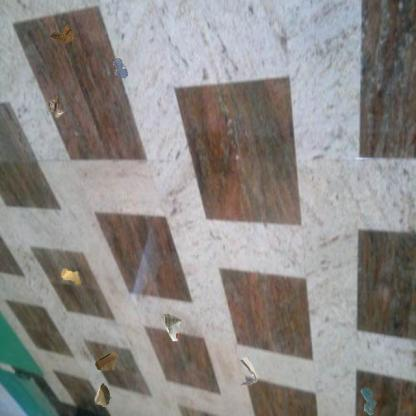dirty: (238, 354, 260, 388), (93, 350, 121, 374), (48, 22, 76, 46), (163, 313, 185, 341), (46, 95, 66, 119), (93, 381, 111, 407), (60, 266, 81, 287)
liquid: (360, 386, 378, 416), (112, 57, 129, 81)
